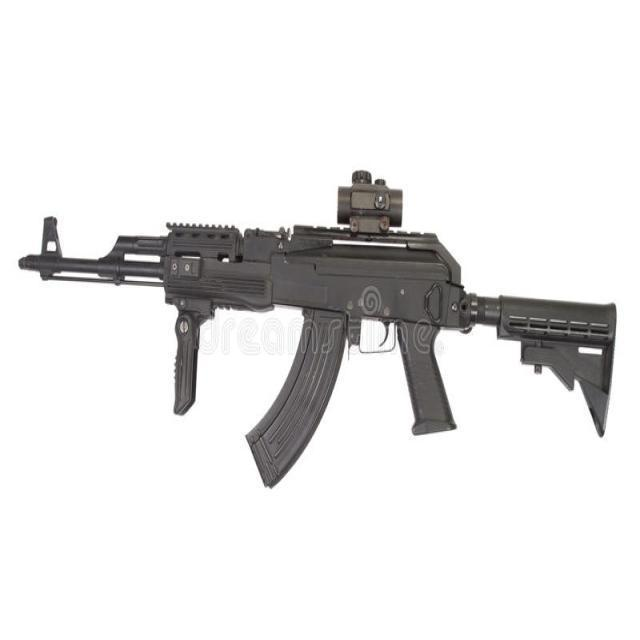Rifle: (19, 168, 617, 489)
